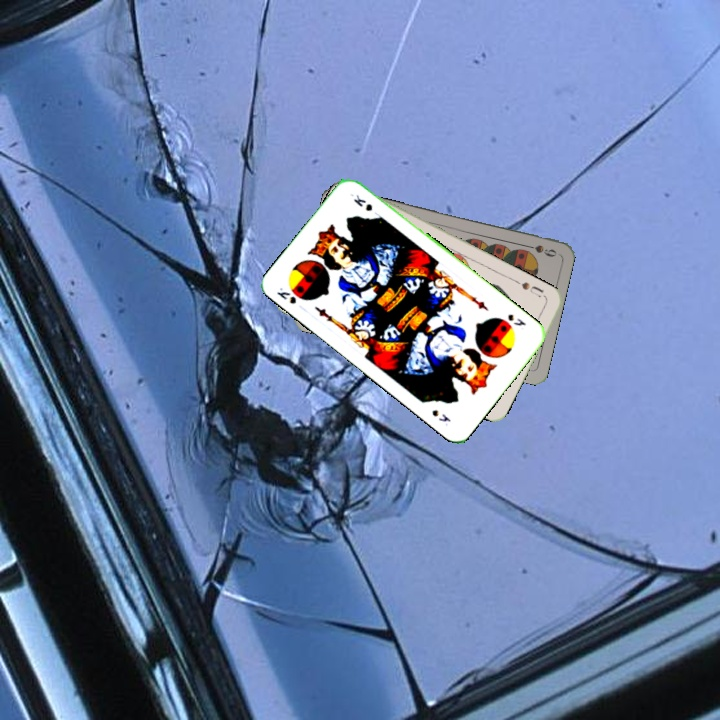S9: (519, 240, 559, 259)
SK: (273, 283, 299, 307), (503, 310, 529, 329)
SU: (517, 278, 546, 300)
